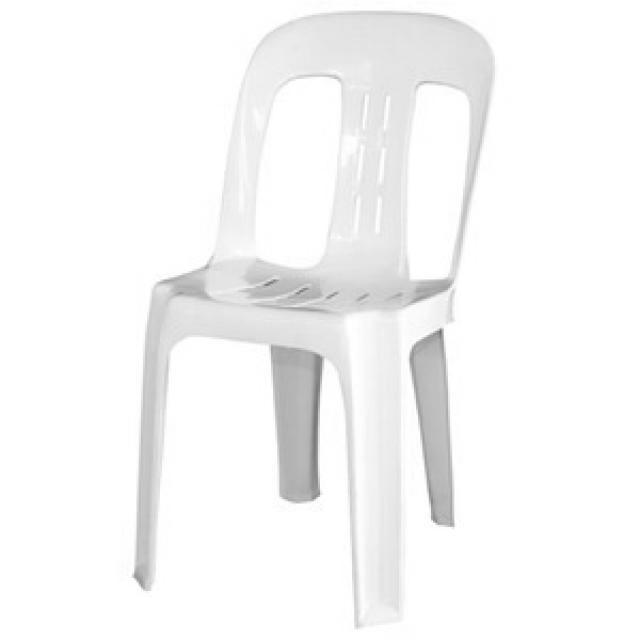chair: (128, 6, 499, 628)
